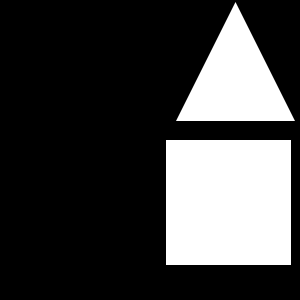circle: (166, 140, 291, 265)
triangle: (176, 2, 295, 121)
